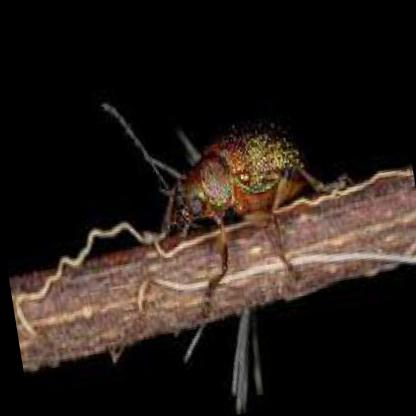ash weevil: (105, 109, 339, 235)
